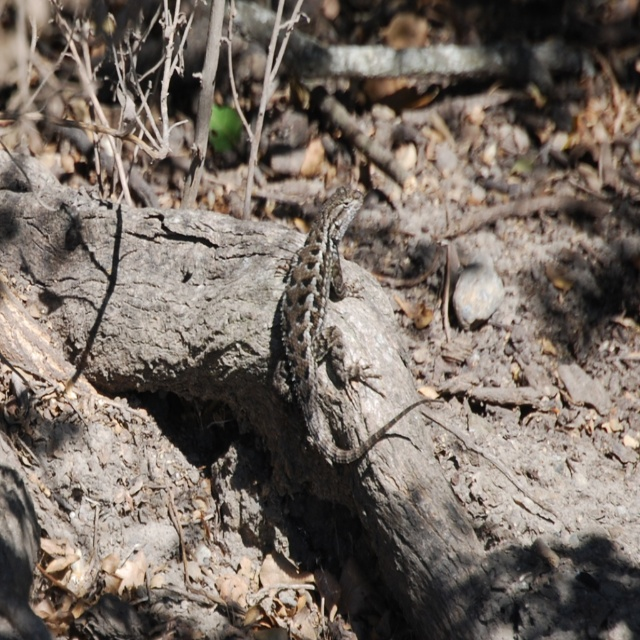Lizard: (254, 190, 390, 547)
